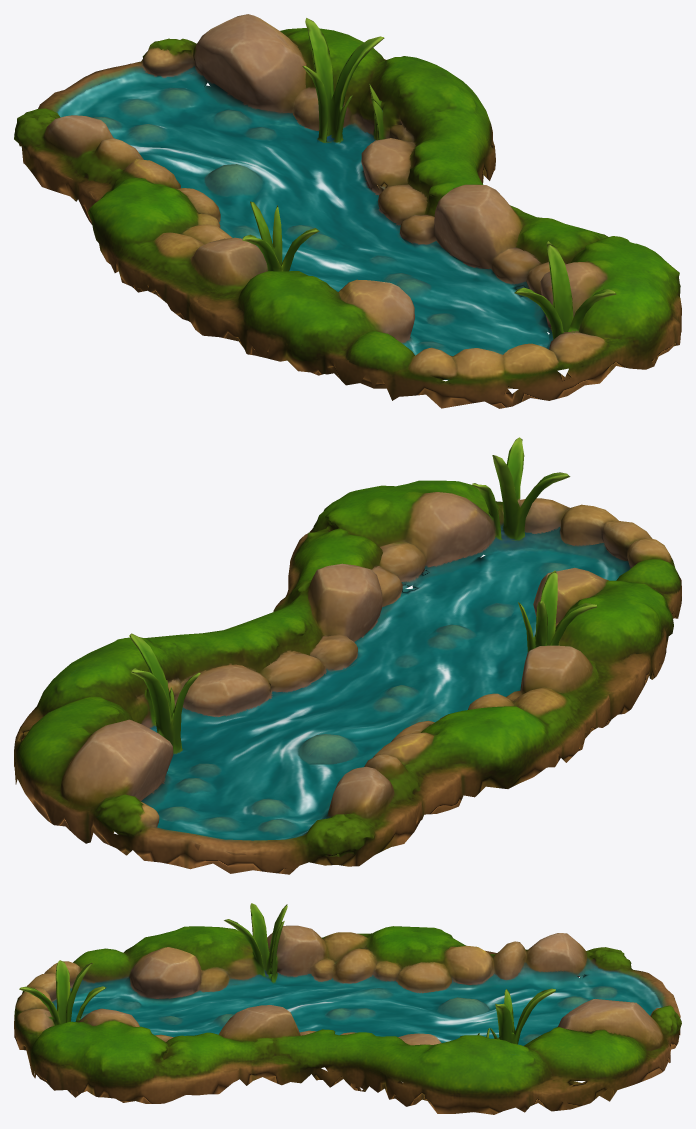
File: creek-segment.glb
3 views of the same model, one above another, from view 1: azimuth 30°, elevation 25°; view 2: azimuth 150°, elevation 25°; view 3: azimuth 270°, elevation 25° (orthographic). The views are drawn at different scales.
Size of the model in its own units: 0.5697 by 0.167 by 0.9976.
Materials: 1 (1 with a texture image).
